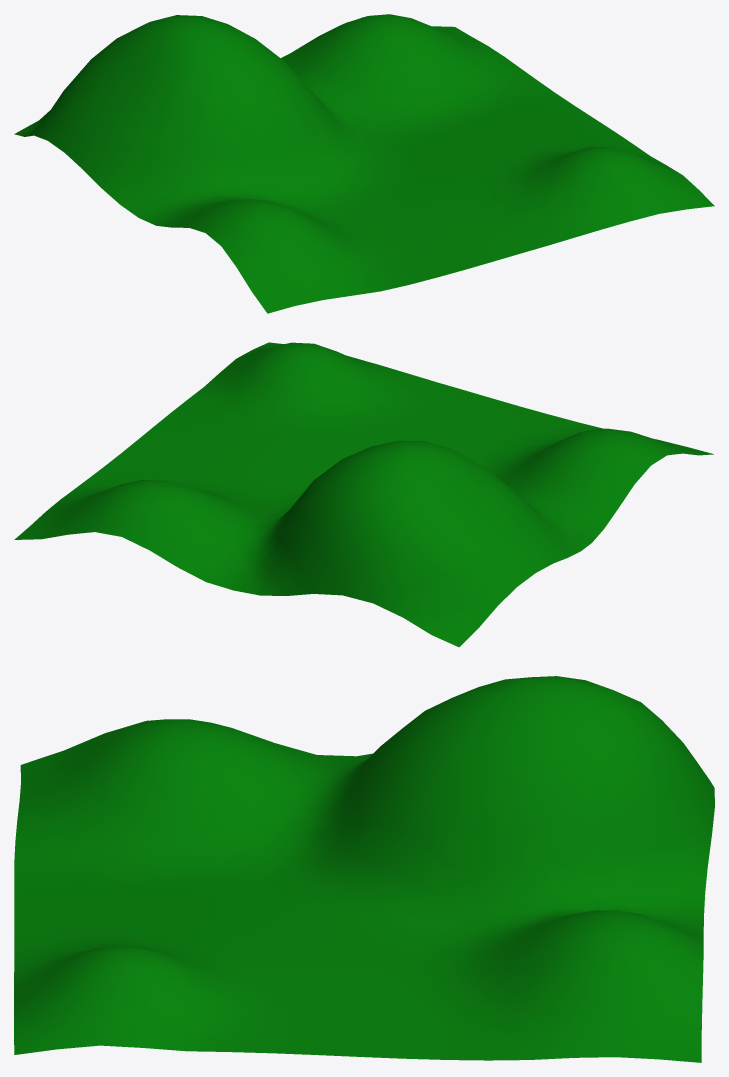
File: makahiki.lvl3.fbx
3 renders of one model, top to bottom at view 1: azimuth 30°, elevation 25°; view 2: azimuth 150°, elevation 25°; view 3: azimuth 270°, elevation 25°, orthographic. The views are drawn at different scales.
Visible parts, largest first — view 1: Plane; view 2: Plane; view 3: Plane.
Boxes of the visible parts, <box> form: Plane: <box>14,14,714,313</box>; Plane: <box>14,342,713,647</box>; Plane: <box>14,676,714,1062</box>.
Size of the model in its own units: 10273 by 2676 by 10159.
